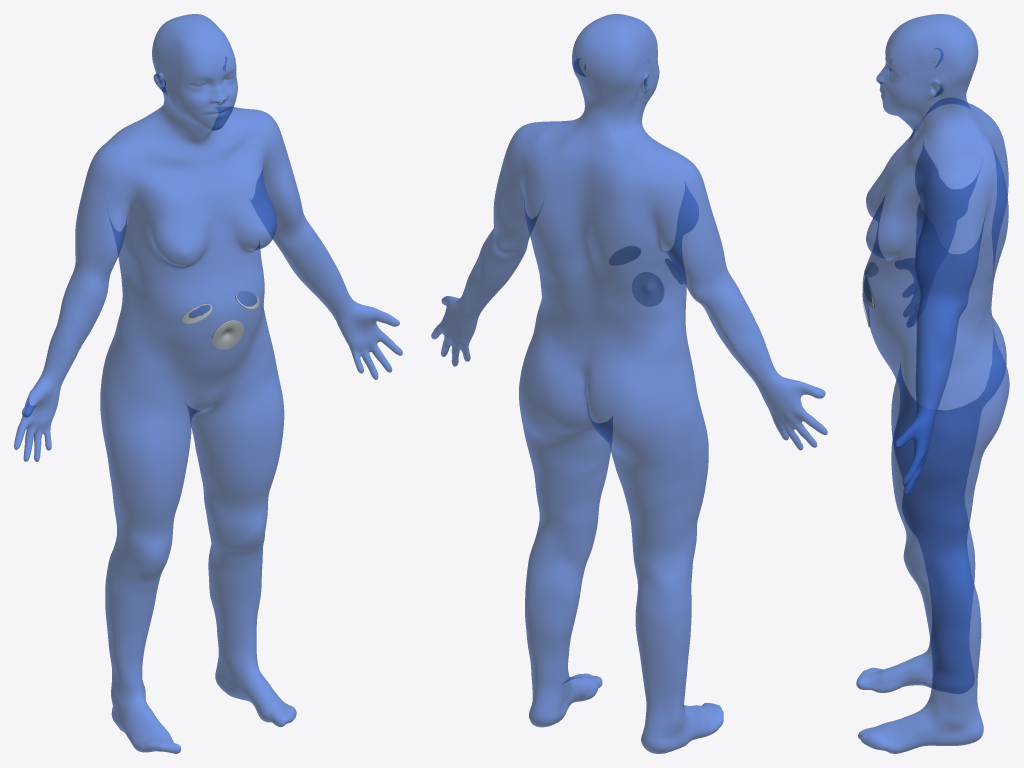
File: integumentary.glb
3 views of the same model, side by side, from view 1: azimuth 30°, elevation 25°; view 2: azimuth 150°, elevation 25°; view 3: azimuth 270°, elevation 25° (orthographic).
Visible parts, largest first — view 1: skin-of-body, hra10-vh-f-subcutaneous-abdominal-adipose-tissue-umbilicus-a; view 2: skin-of-body, hra10-vh-f-subcutaneous-abdominal-adipose-tissue-umbilicus-a; view 3: skin-of-body.
Part boxes in pixels (x1=…): skin-of-body: x1=14, y1=14, x2=402, y2=753; hra10-vh-f-subcutaneous-abdominal-adipose-tissue-umbilicus-a: x1=212, y1=320, x2=243, y2=349; skin-of-body: x1=431, y1=14, x2=827, y2=753; hra10-vh-f-subcutaneous-abdominal-adipose-tissue-umbilicus-a: x1=632, y1=272, x2=664, y2=306; skin-of-body: x1=856, y1=14, x2=1009, y2=753.
Size of the model in its own units: 0.9675 by 1.67 by 0.3292.
